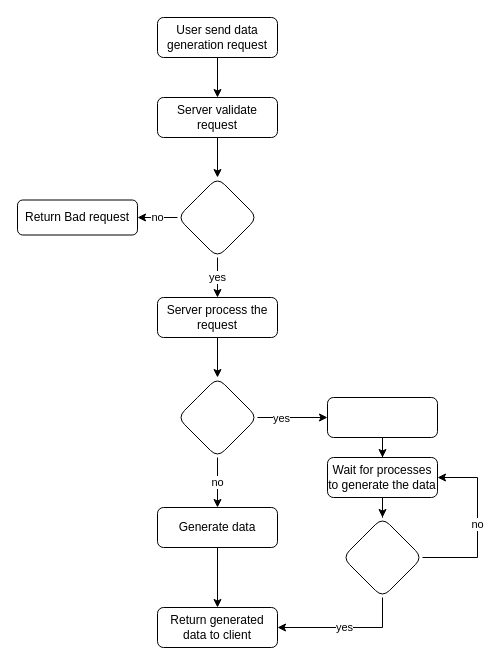
Image size: 503x665. Some labels were removed from this diagram. The centre of each missing label's shape, as x and y in pixels:
Are all processes done ?: point 382,557
Is request valid: point 217,217
Over 10000 rows requested: point 217,417
Split the request evenly in to different processes: point 382,417
